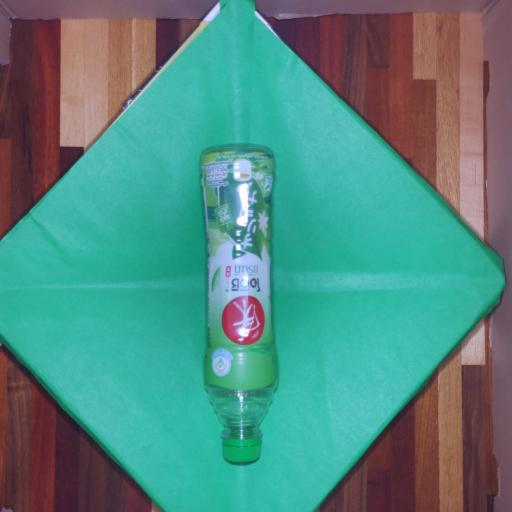bottle: (200, 144, 278, 464)
